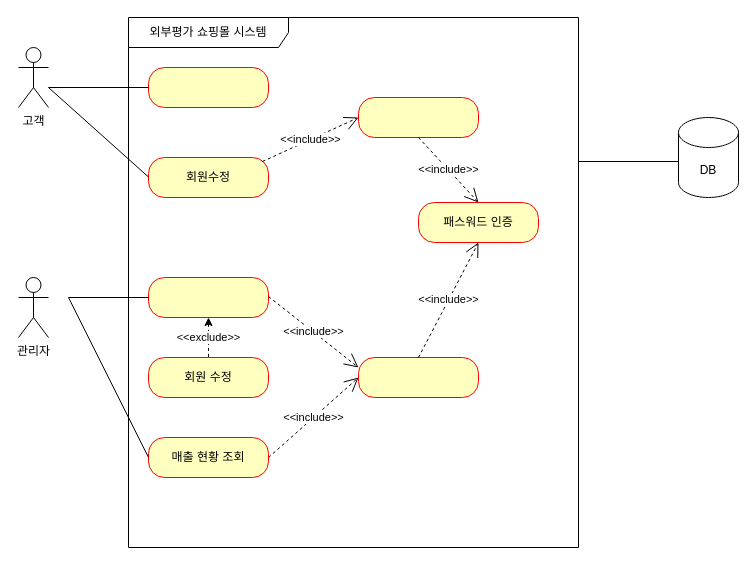
The diagram is 756 pixels wide and 565 high, and some of its shapes have lost their labels. Each missing label, with the centre of its shape:
"관리자 로그인" goes at (x=418, y=377).
"회원 로그인" goes at (x=418, y=117).
"회원등록" goes at (x=208, y=87).
"회원목록" goes at (x=208, y=297).
